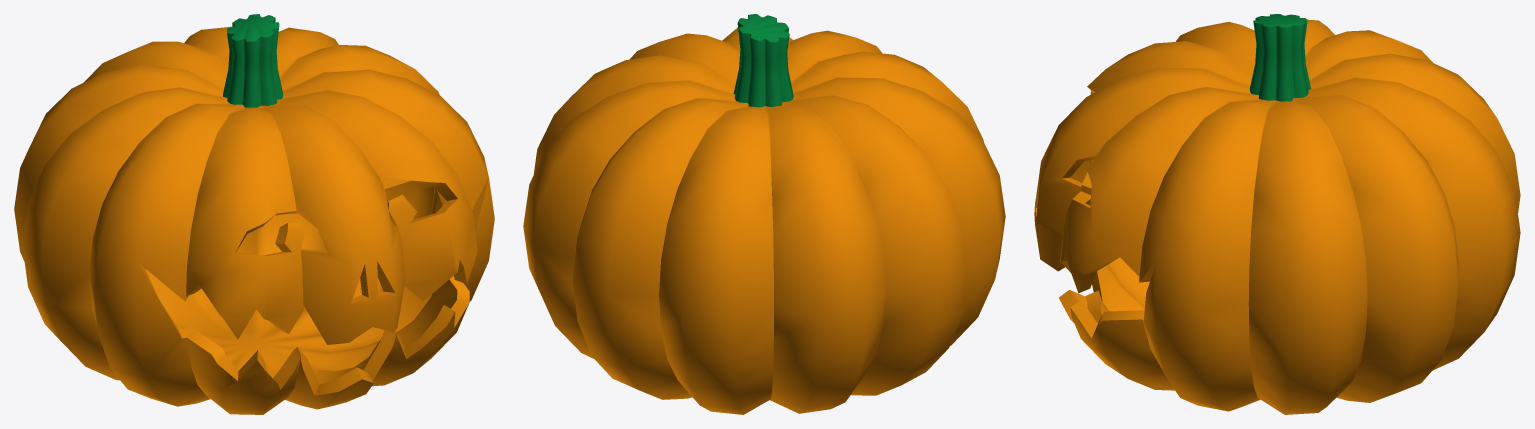
The model's file is pumpkin.fbx.
3 renders of one model, left to right at view 1: azimuth 30°, elevation 25°; view 2: azimuth 150°, elevation 25°; view 3: azimuth 270°, elevation 25°, orthographic.
Visible parts, largest first — view 1: Sphere, Cylinder.002; view 2: Sphere, Cylinder.002; view 3: Sphere, Cylinder.002.
Boxes of the visible parts, x1=… form: Sphere: x1=14, y1=26, x2=494, y2=414; Cylinder.002: x1=223, y1=14, x2=283, y2=107; Sphere: x1=523, y1=27, x2=1005, y2=414; Cylinder.002: x1=733, y1=14, x2=793, y2=107; Sphere: x1=1034, y1=19, x2=1520, y2=414; Cylinder.002: x1=1249, y1=14, x2=1310, y2=101.
Size of the model in its own units: 87.36 by 68.36 by 86.58.
